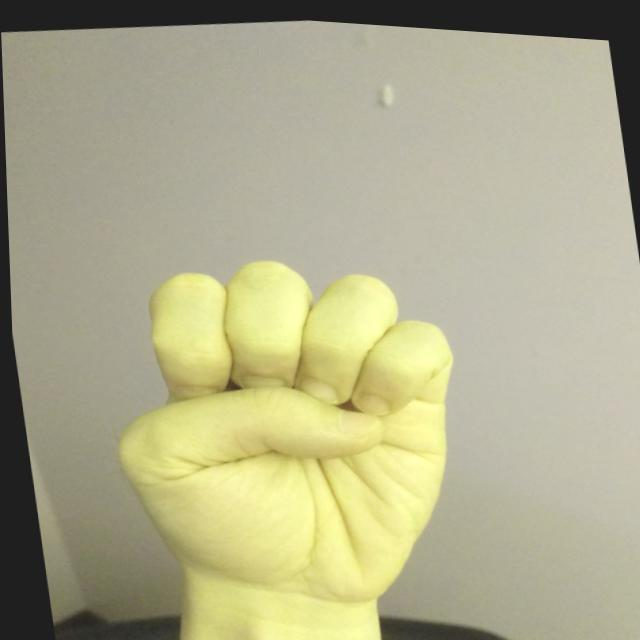E: (80, 222, 495, 634)
